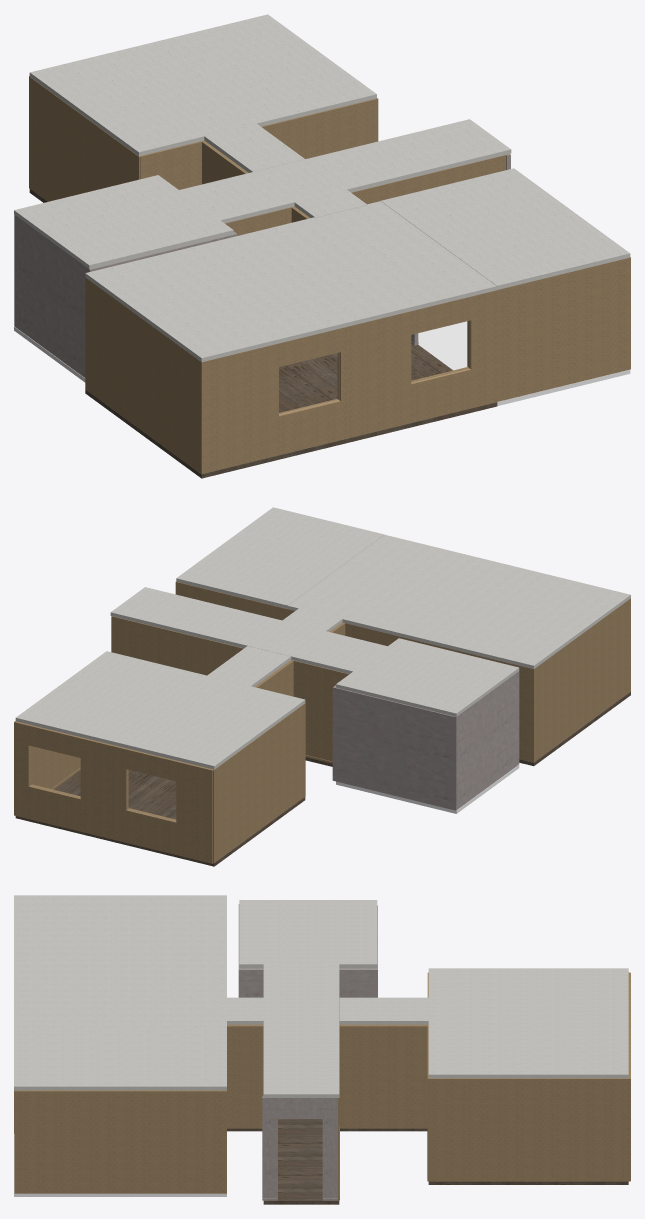
The model's file is walls.glb.
3 renders of one model, top to bottom at view 1: azimuth 30°, elevation 25°; view 2: azimuth 150°, elevation 25°; view 3: azimuth 270°, elevation 25°, orthographic. The views are drawn at different scales.
Visible parts, largest first — view 1: floor.roof, floor.wall, floor; view 2: floor.roof, floor.wall, floor; view 3: floor.roof, floor.wall, floor.
Boxes of the visible parts, left/top/right/bottom form: floor.roof: left=14, top=14, right=630, bottom=362; floor.wall: left=14, top=76, right=630, bottom=471; floor: left=14, top=189, right=630, bottom=478; floor.roof: left=14, top=507, right=630, bottom=770; floor.wall: left=14, top=582, right=630, bottom=863; floor: left=14, top=690, right=630, bottom=866; floor.roof: left=14, top=895, right=630, bottom=1097; floor.wall: left=14, top=970, right=630, bottom=1197; floor: left=14, top=1119, right=630, bottom=1204.
Size of the model in its own units: 21.01 by 5.43 by 27.5.
Materials: 7 (4 with a texture image).
